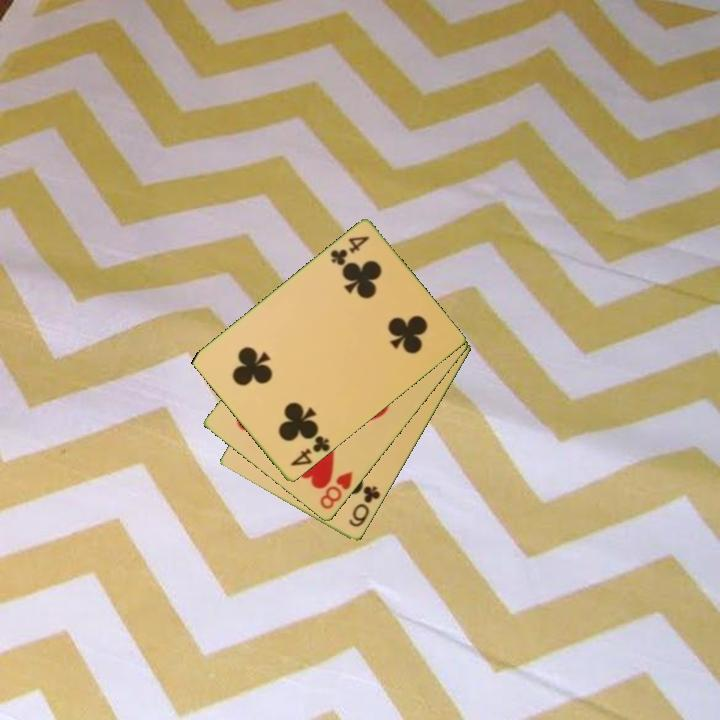4c: (287, 432, 333, 470), (327, 233, 372, 269)
6c: (345, 482, 384, 531)
8h: (316, 468, 356, 513)
